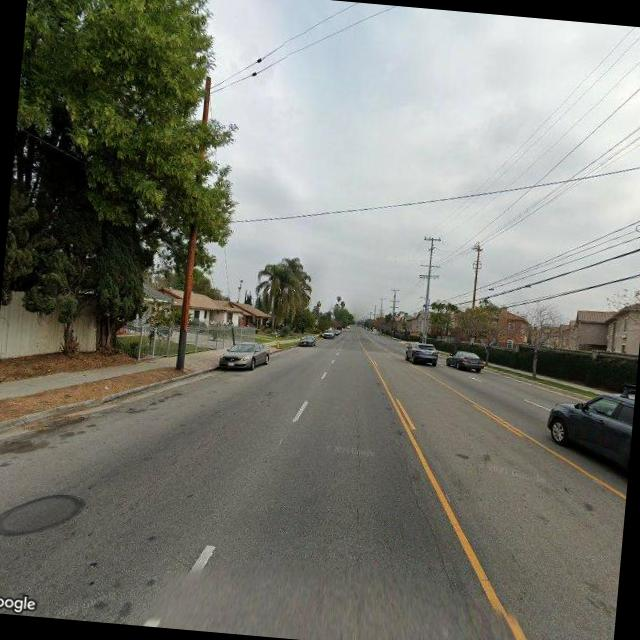pothole: (392, 463, 467, 592), (343, 392, 371, 469)
